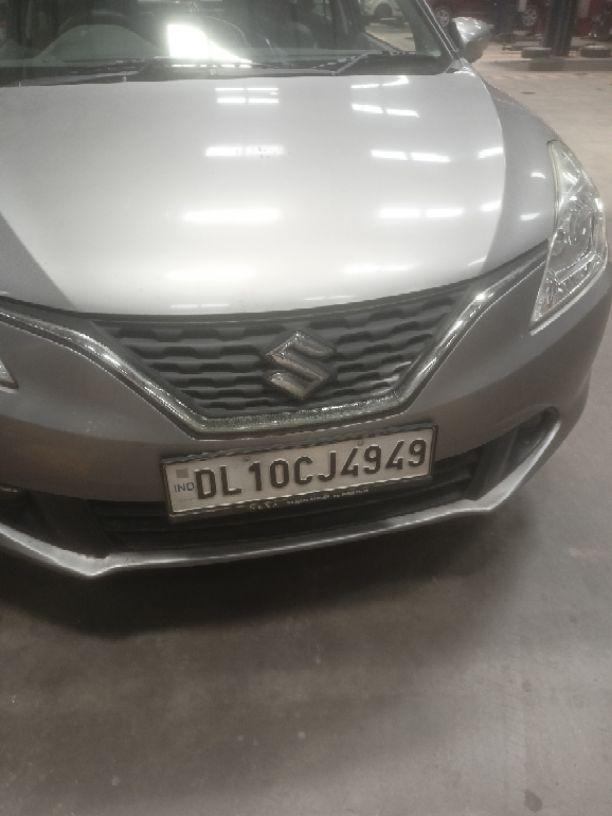license_plate: (159, 422, 437, 521)
